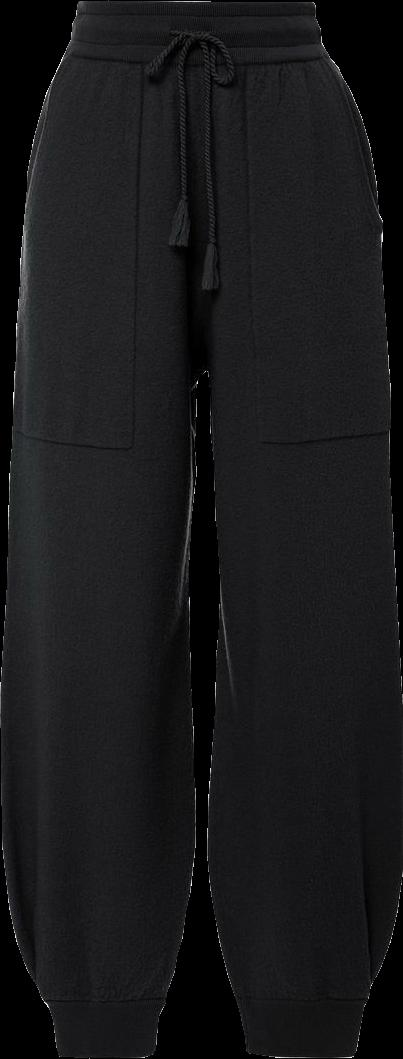Hemline: (246, 1043, 358, 1058), (57, 1041, 155, 1058)
Pantleg: (201, 0, 402, 1058), (1, 0, 200, 1058)
Waistline: (61, 46, 330, 75), (77, 0, 311, 15), (40, 988, 169, 1008), (232, 986, 367, 1004)
